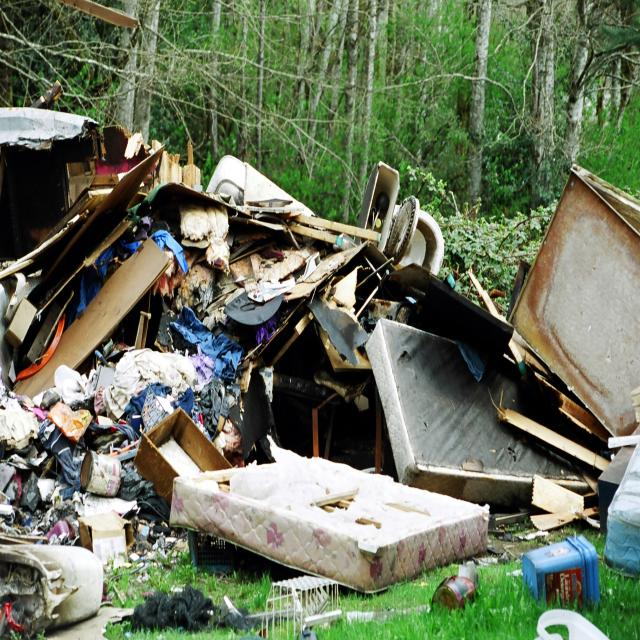cardboard: (123, 132, 198, 194), (134, 424, 211, 473), (93, 277, 153, 332)
plastic: (528, 536, 602, 608)
